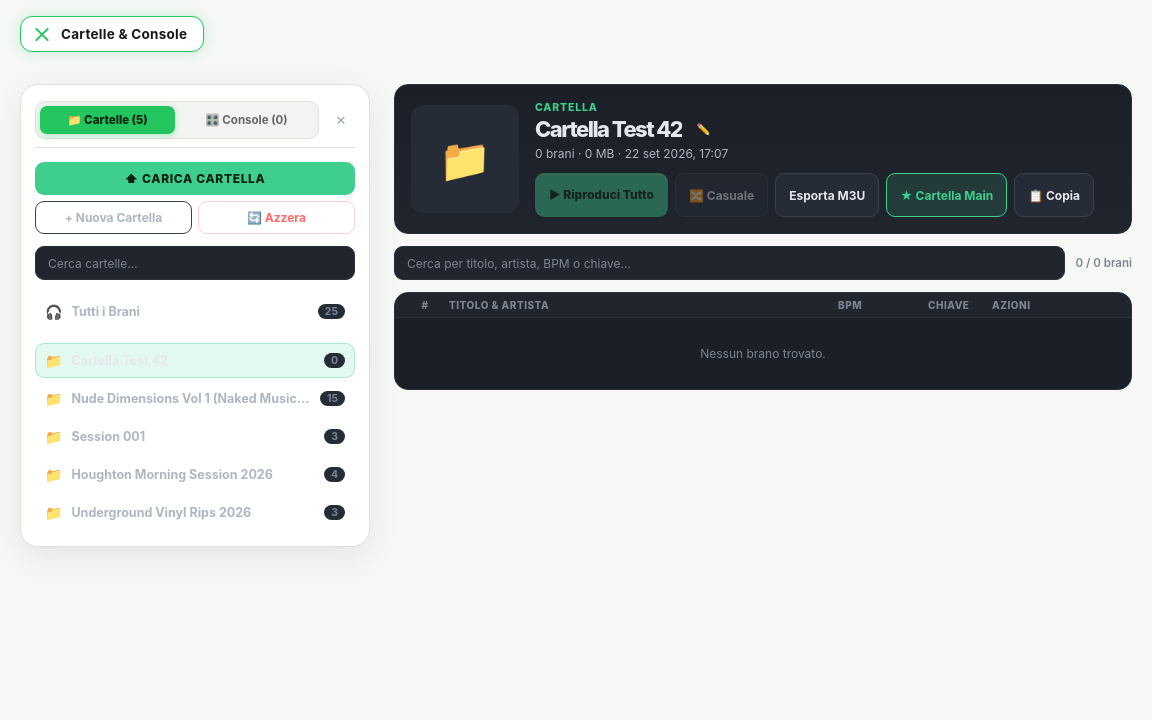
Test: FolderIngestionHub › non ha pulsante play duplicato nella colonna delle azioni (.arch-row-act)
What coordinates should you click on to do the following:
click the text "Houghton Morning Session 2026"
I would click on:
 (172, 474)
Its box is x1=72 y1=467 x2=273 y2=482.
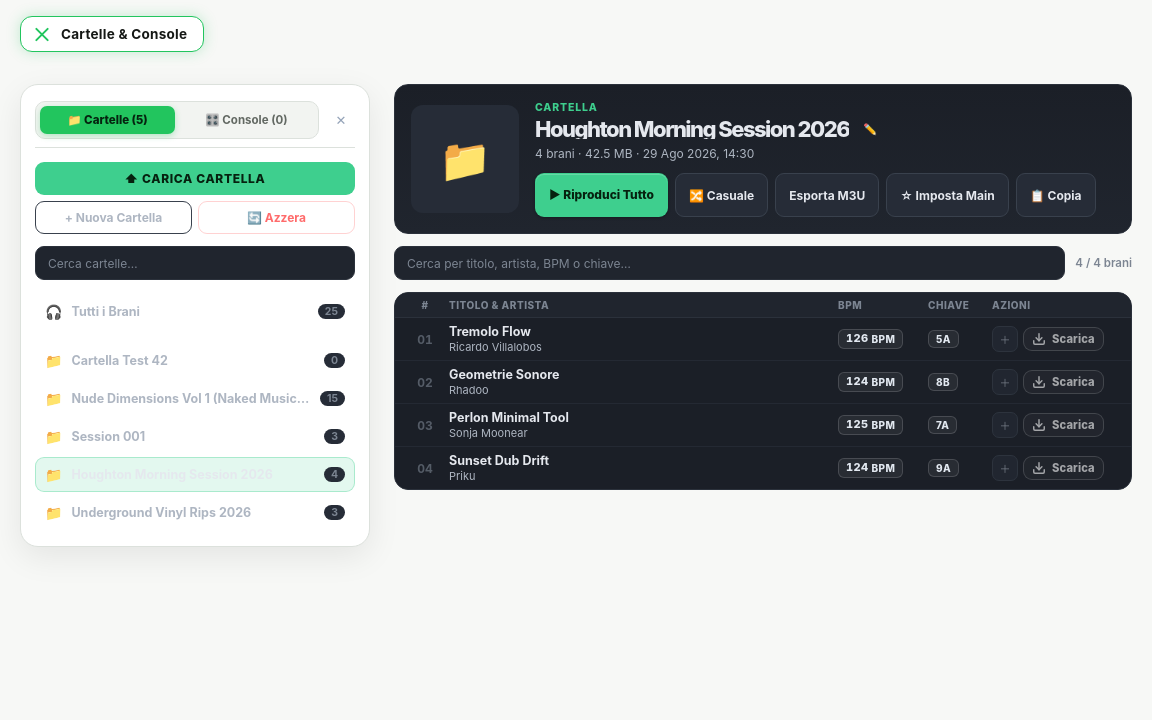
Check: the button does not show "▶"
Check: the element with class "arch-row-act" next to "5A" is shown, box x1=992 y1=326 x2=1117 y2=352
